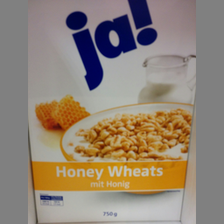cereal: (29, 1, 196, 224)
